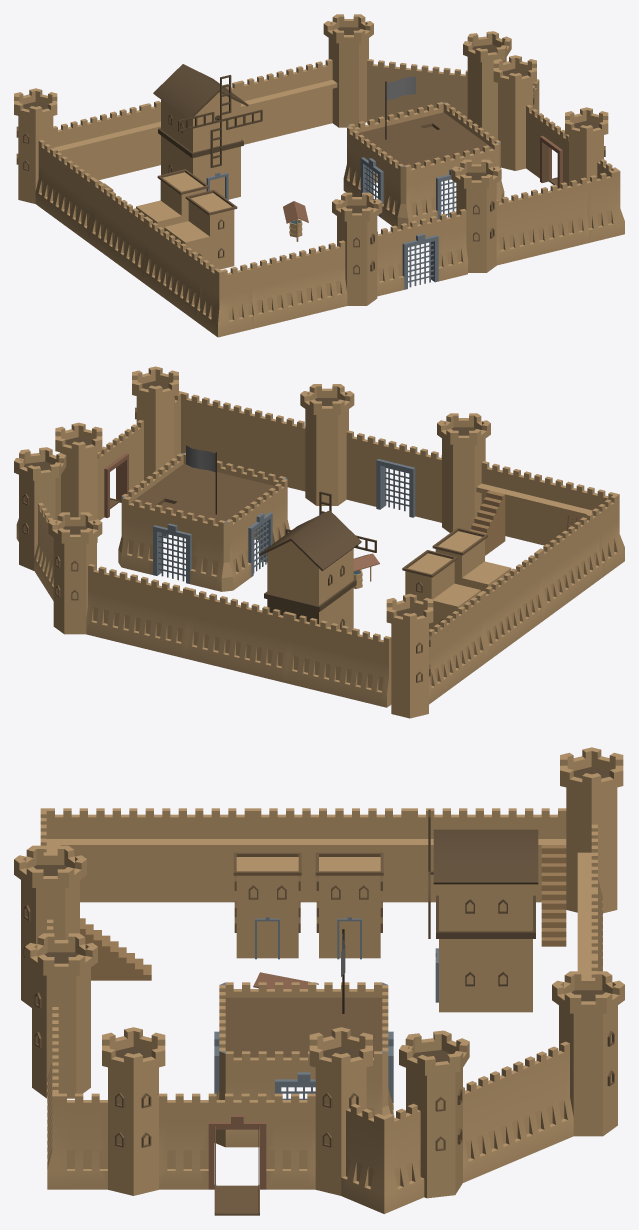
3 views of the same model, one above another, from view 1: azimuth 30°, elevation 25°; view 2: azimuth 150°, elevation 25°; view 3: azimuth 270°, elevation 25° (orthographic). The views are drawn at different scales.
Parts seen in each view (by area): view 1: building_01, mill, wall_01, wall_02, wall_08, door_02, wall_06, tower_06, wall_09, tower_02, tower_01, wall_04 (+14 smaller); view 2: building_01, mill, wall_06, wall_07, wall_08, door_02, wall_02, wall_01, tower_01, tower_05, tower_06, tower_02 (+15 smaller); view 3: mill, building_01, door_01, wall_03, wall_09, tower_01, wall_04, tower_06, tower_03, tower_07, corner_wall_03, tower_05 (+12 smaller).
Part boxes in pixels (bbox=[...]): building_01: bbox=[343, 102, 504, 229]; mill: bbox=[153, 64, 262, 199]; wall_01: bbox=[250, 240, 347, 328]; wall_02: bbox=[496, 177, 588, 265]; wall_08: bbox=[238, 59, 337, 144]; door_02: bbox=[377, 209, 467, 296]; wall_06: bbox=[53, 104, 151, 180]; tower_06: bbox=[323, 14, 373, 127]; wall_09: bbox=[367, 59, 467, 123]; tower_02: bbox=[332, 192, 382, 305]; tower_01: bbox=[451, 159, 501, 272]; wall_04: bbox=[89, 179, 149, 282]; building_01: bbox=[118, 453, 289, 591]; mill: bbox=[259, 491, 376, 632]; wall_06: bbox=[286, 613, 391, 707]; wall_07: bbox=[186, 588, 290, 683]; wall_08: bbox=[86, 564, 189, 658]; door_02: bbox=[346, 430, 441, 522]; wall_02: bbox=[212, 400, 305, 491]; wall_01: bbox=[476, 461, 584, 545]; tower_01: bbox=[300, 384, 354, 505]; tower_05: bbox=[386, 594, 433, 718]; tower_06: bbox=[48, 512, 102, 634]; tower_02: bbox=[437, 413, 490, 532]; mill: bbox=[428, 809, 538, 1012]; building_01: bbox=[214, 982, 393, 1147]; door_01: bbox=[159, 1093, 315, 1215]; wall_03: bbox=[96, 808, 252, 902]; wall_09: bbox=[463, 1041, 573, 1182]; tower_01: bbox=[25, 933, 97, 1098]; wall_04: bbox=[253, 808, 409, 902]; tower_06: bbox=[552, 971, 624, 1136]; tower_03: bbox=[102, 1027, 165, 1195]; tower_07: bbox=[399, 1030, 469, 1198]; corner_wall_03: bbox=[341, 1103, 424, 1213]; tower_05: bbox=[560, 747, 623, 913].
Size of the model in its own units: 3758 by 1027 by 2964.
1 material, 1 textured.
